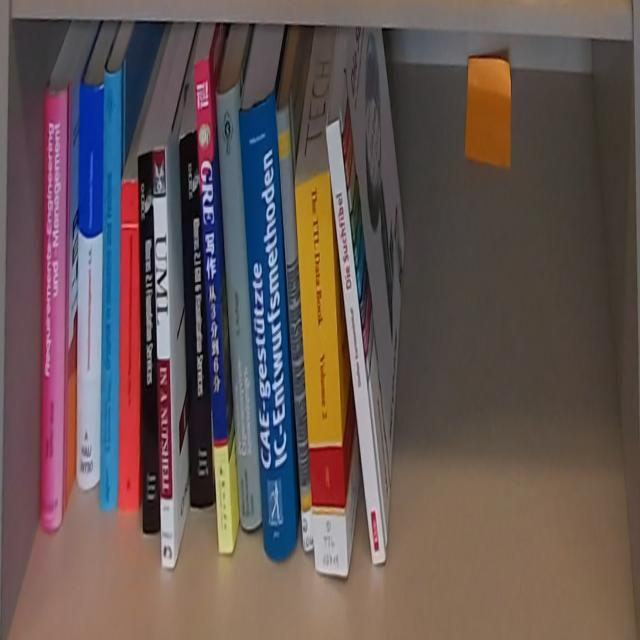Book Spine: (238, 88, 299, 561), (324, 122, 387, 568), (213, 82, 262, 530), (296, 168, 348, 578), (194, 60, 233, 556), (276, 102, 315, 558), (39, 85, 72, 529), (180, 130, 214, 505), (76, 80, 104, 495), (102, 63, 125, 511), (152, 147, 176, 567), (139, 151, 160, 533), (120, 181, 140, 512)
